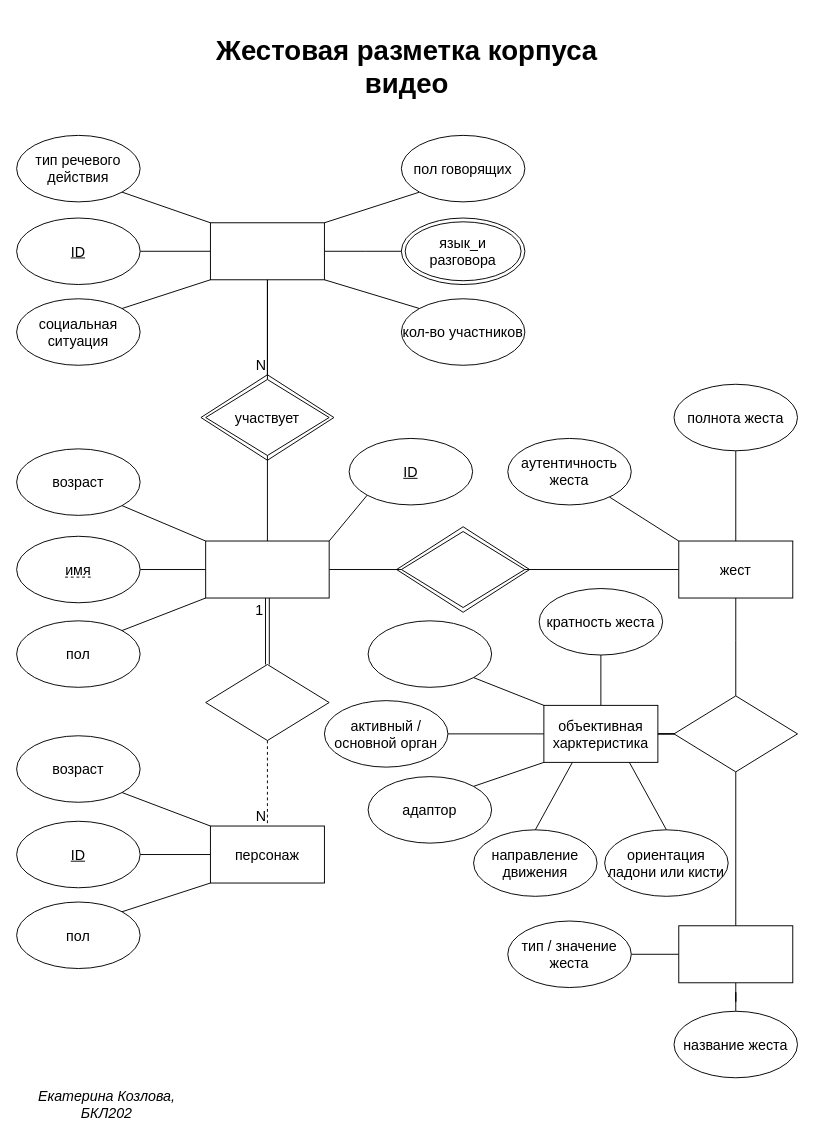
Image size: 814x1136. Some labels were removed from this diagram. Here are the shapes that lost their labels. From the top down, the centre of each, then its label:
At (266,251): "ситуация".
At (267,569): "актер".
At (462,569): "производит".
At (429,653): "пассивный орган".
At (267,702): "играет".
At (735,733): "описывает".
At (735,954): "субъективная характеристика".
